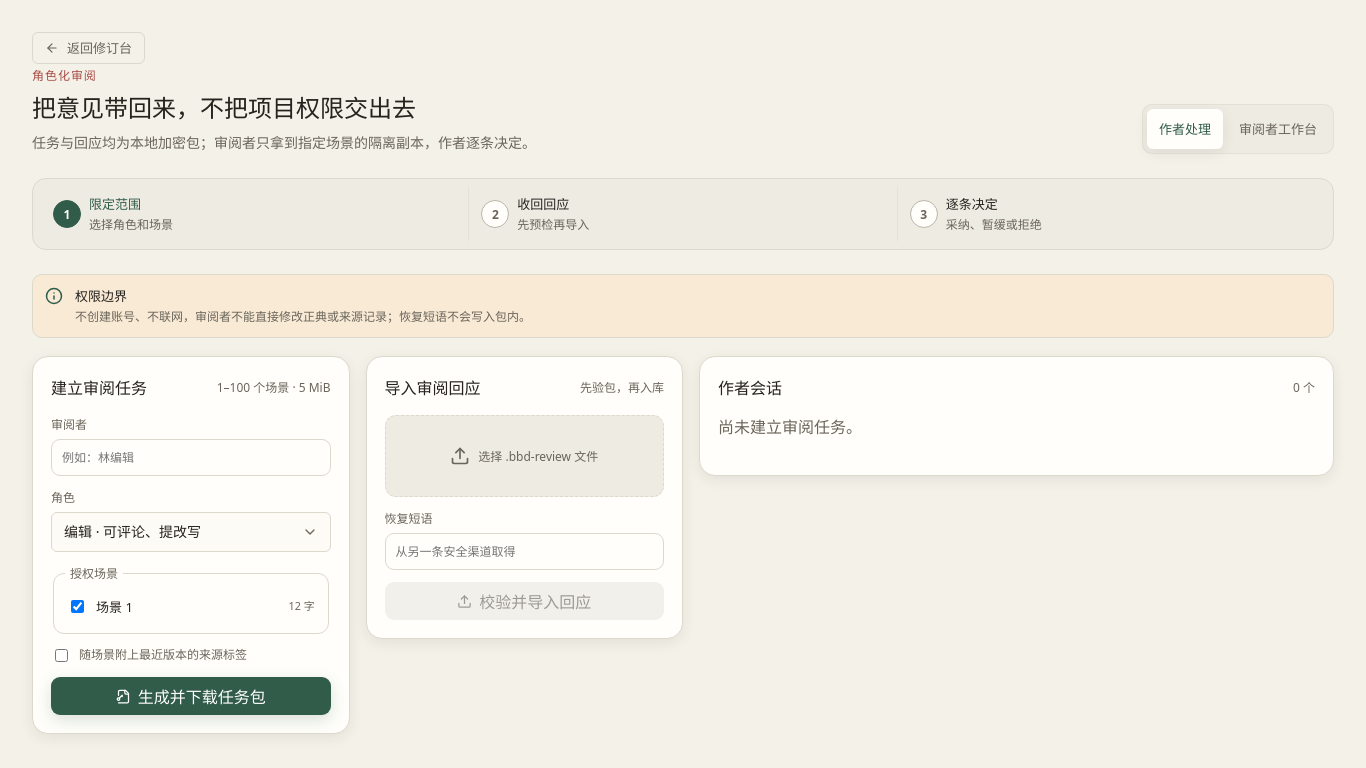
Test: ReviewWorkspace › keeps beta-reader feedback comment-only in the isolated reviewer workbench
Click the tab "审阅者工作台" at (1278, 129), box [1227, 109, 1329, 149]
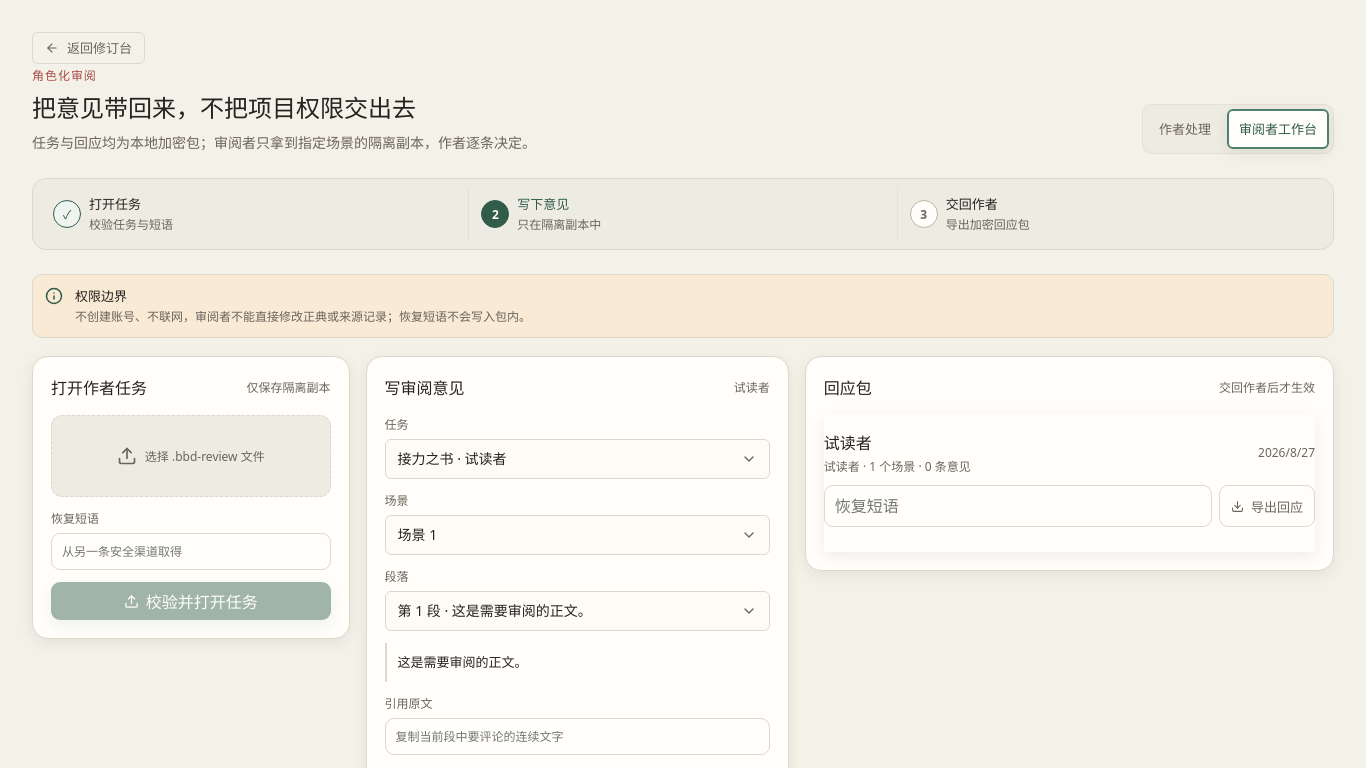
expect the text "试读者" in the row of "写审阅意见" is shown: met, box [734, 379, 770, 396]
expect the text "仅保存隔离副本" is shown: met, box [246, 378, 330, 396]
